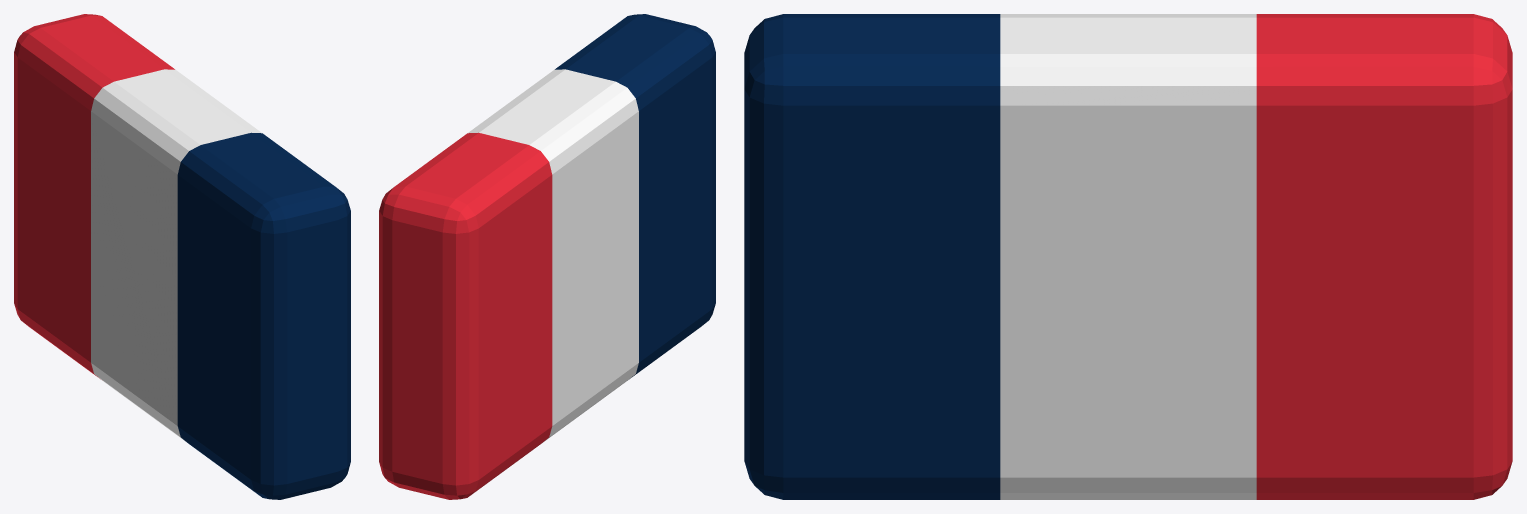
The model's file is french.fbx.
The picture shows the model from 3 angles, left to right: view 1: azimuth 30°, elevation 25°; view 2: azimuth 150°, elevation 25°; view 3: azimuth 270°, elevation 25°; orthographic projection. The views are drawn at different scales.
Parts seen in each view (by area): view 1: French; view 2: French; view 3: French.
Boxes of the visible parts, x1,y1,x2,y2 form: French: [14, 14, 350, 499]; French: [379, 14, 715, 499]; French: [744, 14, 1512, 499].
Bounding box in the file's own units: 9.56 × 28.45 × 44.75.
